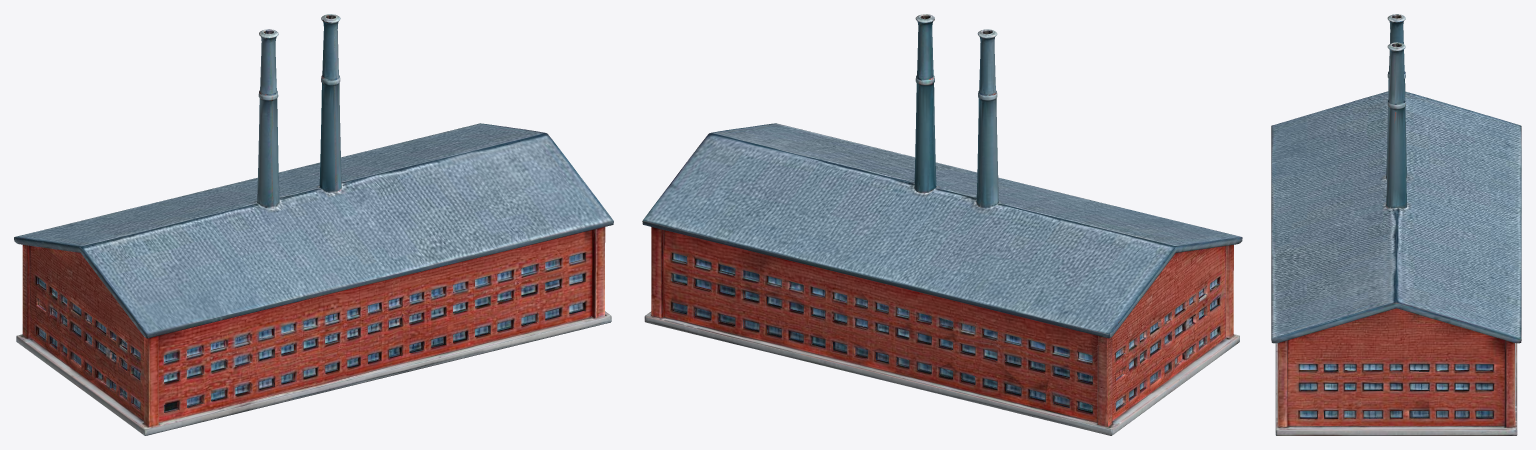
Rendered from factory.glb.
3 views of the same model, side by side, from view 1: azimuth 30°, elevation 25°; view 2: azimuth 150°, elevation 25°; view 3: azimuth 270°, elevation 25° (orthographic). The views are drawn at different scales.
Visible parts, largest first — view 1: factory; view 2: factory; view 3: factory.
Boxes of the visible parts, x1,y1,x2,y2 form: factory: (14, 14, 613, 435); factory: (642, 14, 1242, 435); factory: (1271, 14, 1521, 435).
Size of the model in its own units: 1.57 by 1 by 0.776.
Materials: 1 (1 with a texture image).
